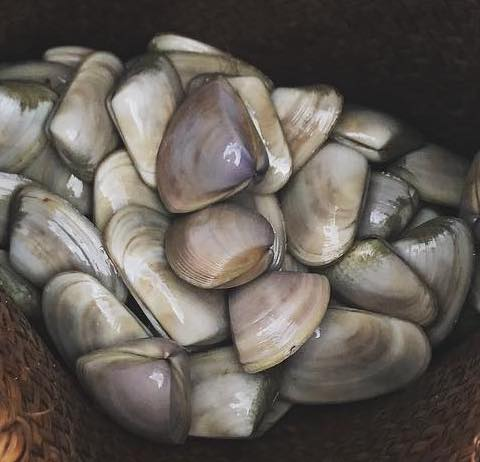tuatua: (102, 202, 223, 347), (275, 305, 435, 404), (8, 184, 132, 306), (281, 139, 370, 270), (327, 234, 437, 329), (47, 47, 123, 183), (394, 214, 469, 345), (103, 50, 172, 188), (37, 268, 151, 344), (187, 347, 270, 439), (269, 79, 346, 168), (1, 77, 58, 181)
